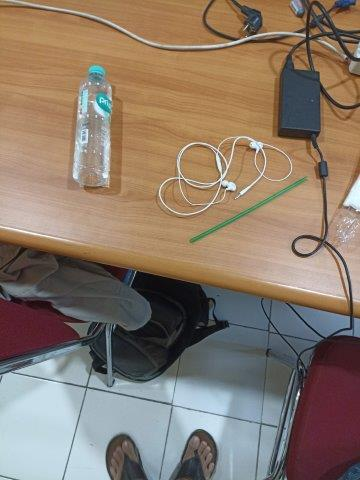botolplastik: (72, 65, 112, 187)
